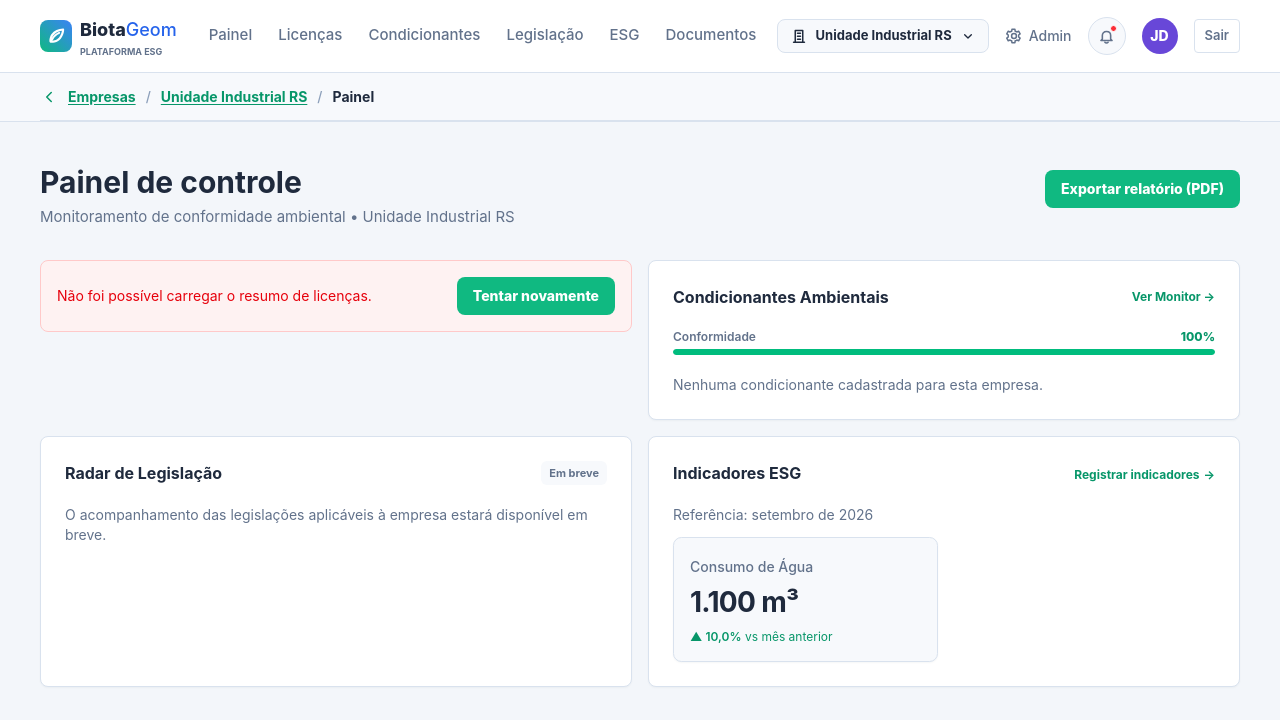
Test: CompanyDashboardPage › shows an error and allows retrying the dashboard request
This screenshot has width=1280, height=720.
Expected: the message shows "Não foi possível carregar o resumo de licenças.", [57, 287, 372, 304]
Click the button "Tentar novamente": x=536, y=296 [457, 277, 615, 315]
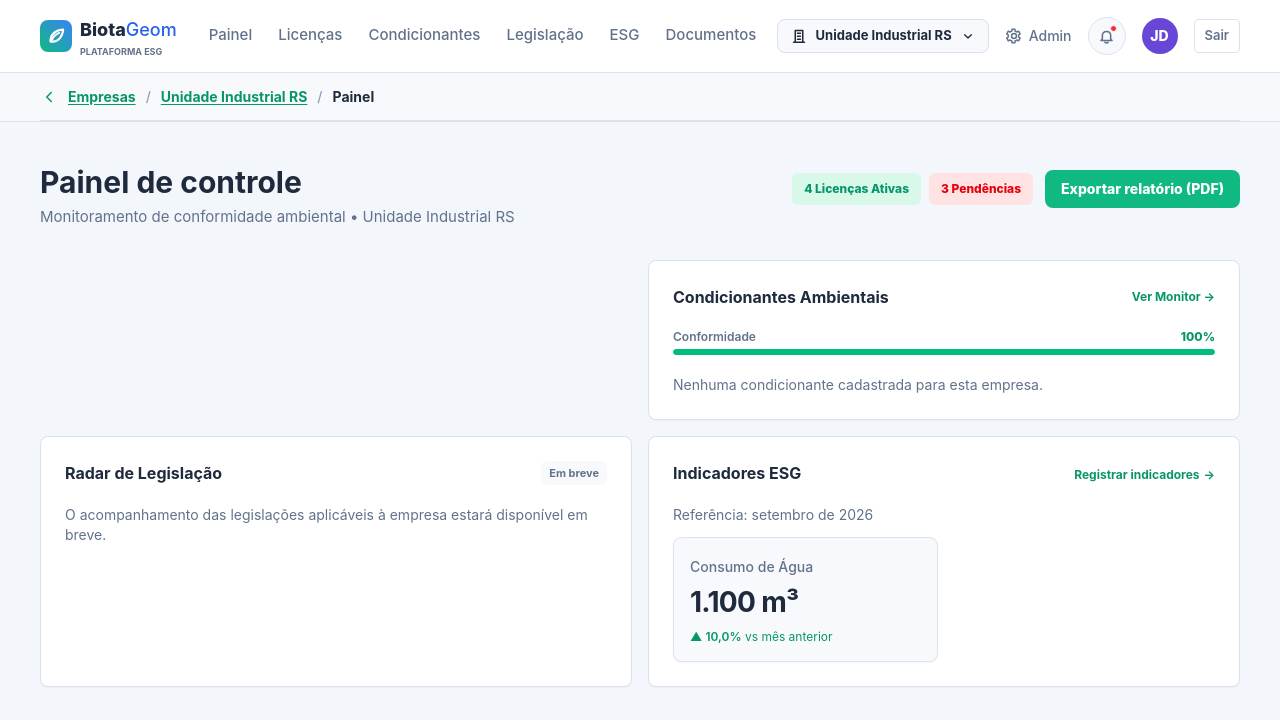
Now the text "4 Licenças Ativas" is shown, box [792, 173, 921, 205]
